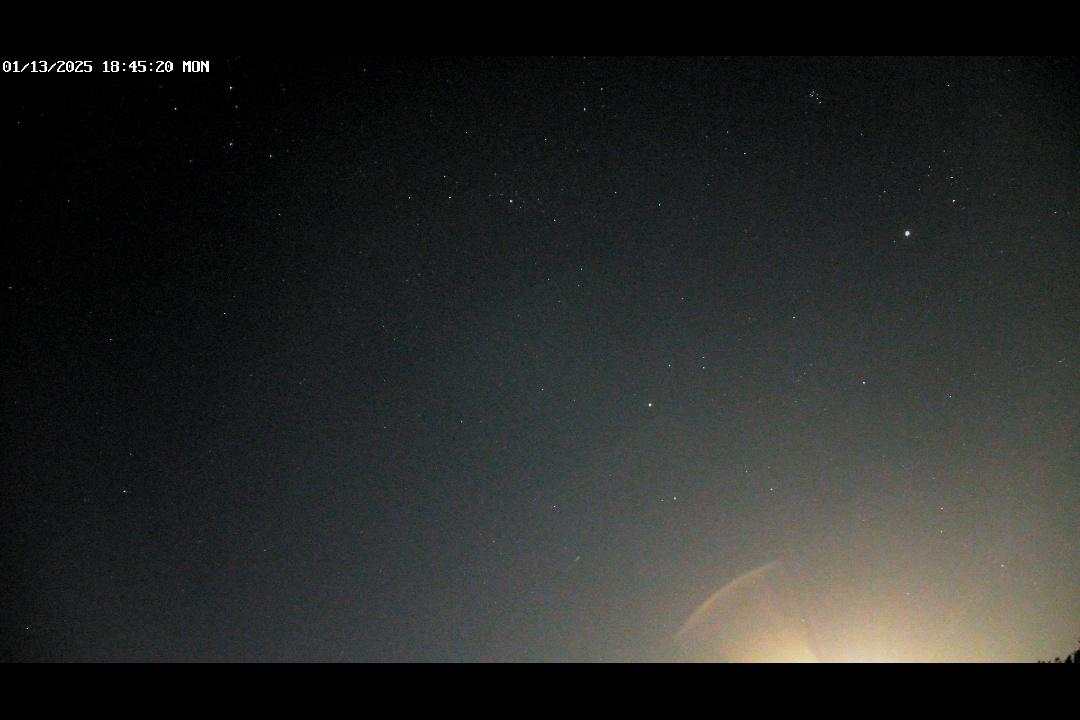Plane: (562, 554, 584, 576)
